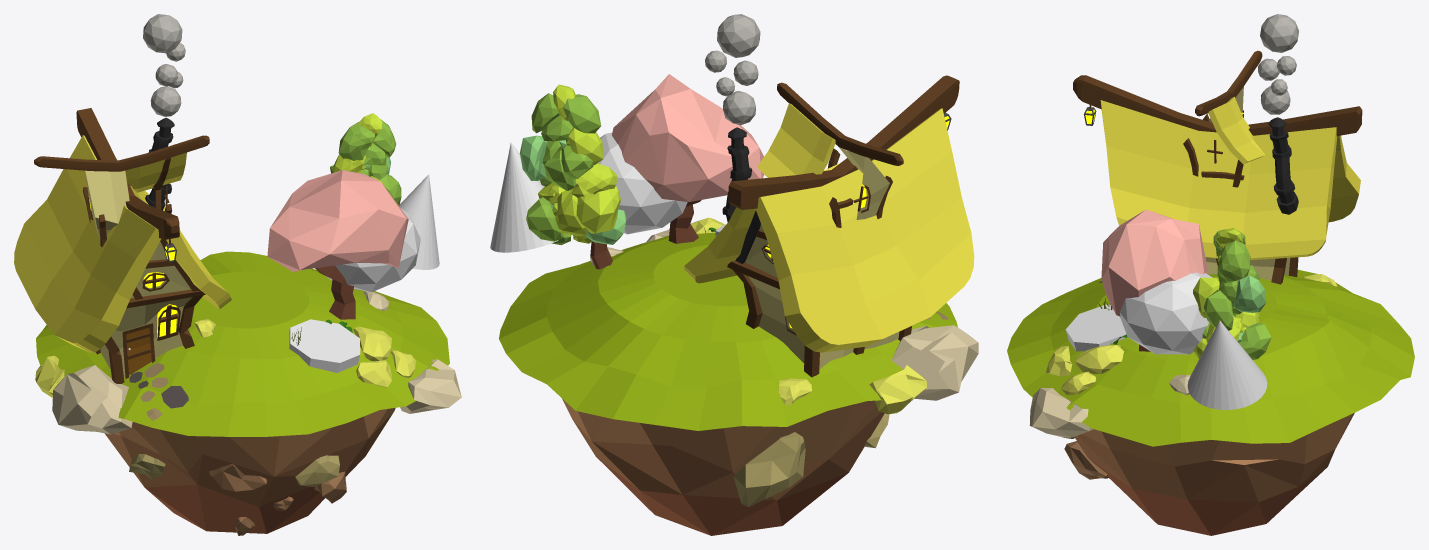
File: Landscape3.glb
3 views of the same model, side by side, from view 1: azimuth 30°, elevation 25°; view 2: azimuth 150°, elevation 25°; view 3: azimuth 270°, elevation 25° (orthographic). The views are drawn at different scales.
Visible parts, largest first — view 1: Cylinder.002, Cube.002, Cylinder, Icosphere.024, Icosphere.041, Cube, Cylinder.007, Cube.004, Icosphere, Cube.005, Icosphere.027, Cube.001 (+18 smaller); view 2: Cylinder.002, Cube.002, Cylinder, Icosphere.024, Cube.004, Icosphere.041, Cube.003, Icosphere, Cylinder.005, Icosphere.045, Cube, Cube.005 (+21 smaller); view 3: Cylinder.002, Cube.002, Cylinder, Icosphere.024, Icosphere, Cylinder.005, Cube.004, Icosphere.027, Cylinder.007, Cube.003, Cylinder.003, Icosphere.055 (+12 smaller).
Boxes of the visible parts, x1,y1,x2,y2 form: Cylinder.002: (36,251,449,436); Cube.002: (14,135,231,352); Cylinder: (104,407,395,533); Icosphere.024: (267,170,408,271); Icosphere.041: (52,365,132,434); Cube: (100,241,192,376); Cylinder.007: (289,319,360,372); Cube.004: (76,108,179,239); Icosphere: (326,208,420,292); Cube.005: (34,135,209,171); Icosphere.027: (400,359,461,413); Cube.001: (85,170,129,239); Cylinder.002: (499,232,957,430); Cube.002: (684,108,974,352); Cylinder: (562,398,884,535); Icosphere.024: (612,74,764,201); Cube.004: (728,75,959,209); Icosphere.041: (891,325,978,400); Cube.003: (757,103,835,177); Icosphere: (599,132,687,234); Cylinder.005: (490,142,558,252); Icosphere.045: (733,432,805,506); Cube: (745,224,899,369); Cube.005: (777,82,903,165); Cylinder.002: (1007,269,1414,446); Cube.002: (1100,100,1360,260); Cylinder: (1074,413,1354,535); Icosphere.024: (1101,209,1207,316); Icosphere: (1119,272,1212,354); Cylinder.005: (1187,320,1267,409); Cube.004: (1073,75,1362,135); Icosphere.027: (1029,388,1093,437); Cylinder.007: (1065,304,1126,351); Cube.003: (1208,96,1264,164); Cylinder.003: (1268,117,1298,214); Icosphere.055: (1260,14,1298,52).
Bounding box in the file's own units: 5.39 × 6.17 × 4.87.
